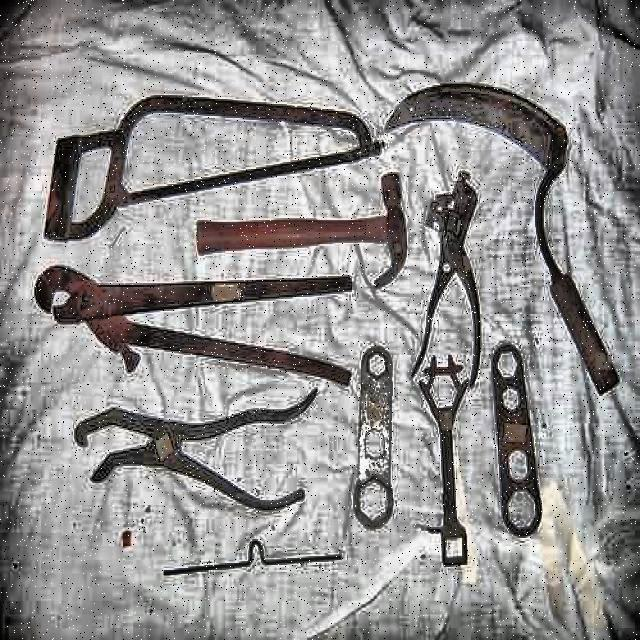hammer: (196, 172, 412, 291)
